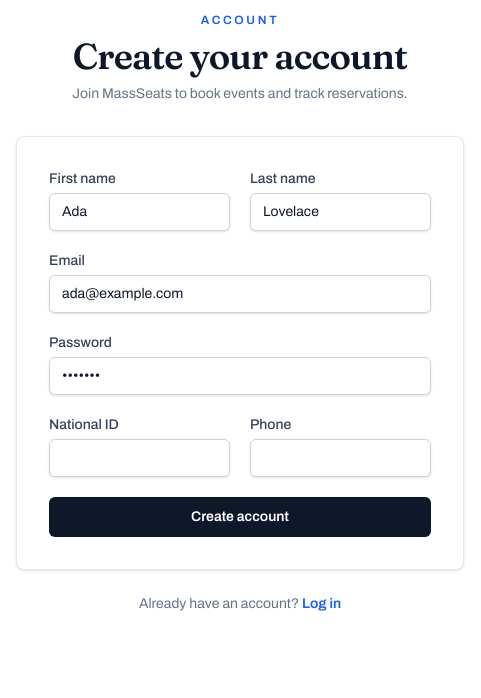
Register › shows the duplicate email error and stays on the page on a 409
Click the submit button.
click(240, 517)  # box x1=49 y1=497 x2=431 y2=537
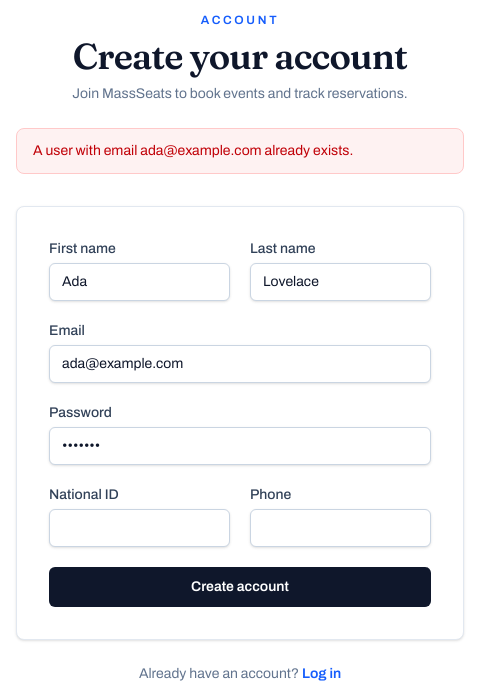
Expected: the text "A user with email ada@example.com already exists." is shown, x1=16 y1=128 x2=464 y2=174
